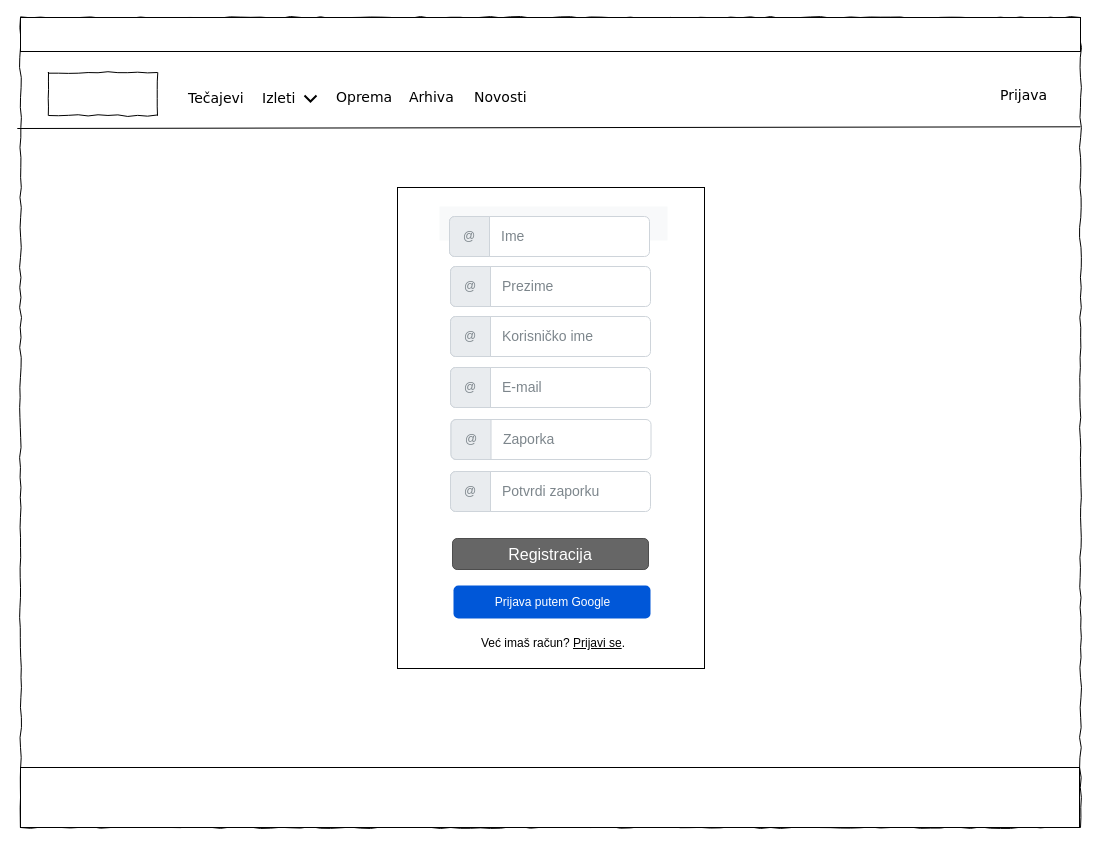
This 1100x845 diagram has some shape labels left out. The shapes that lost their labels are listed below. From the top down, each one's centre as x and y in pixels, then its label:
point 550,34: Contact bar
point 103,94: LOGO
point 550,797: Footer
